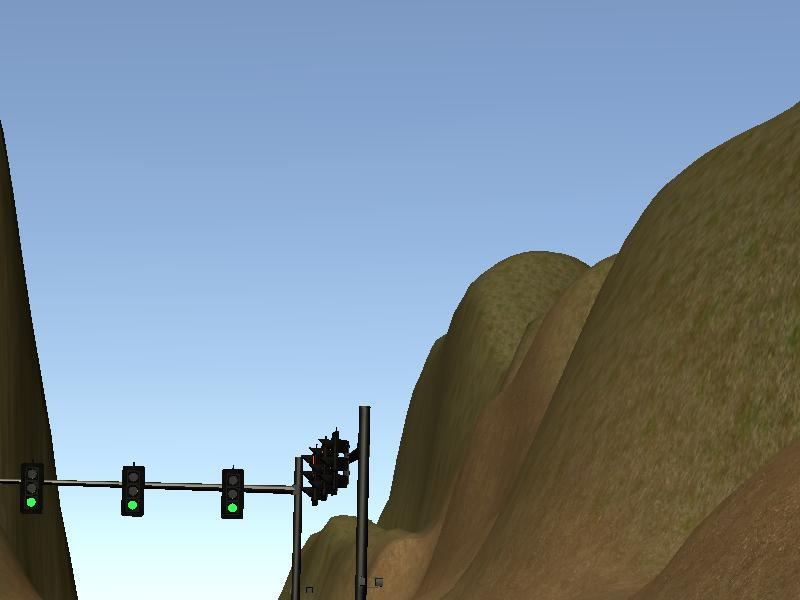green: (19, 459, 46, 516), (119, 462, 146, 519), (219, 464, 246, 521)
